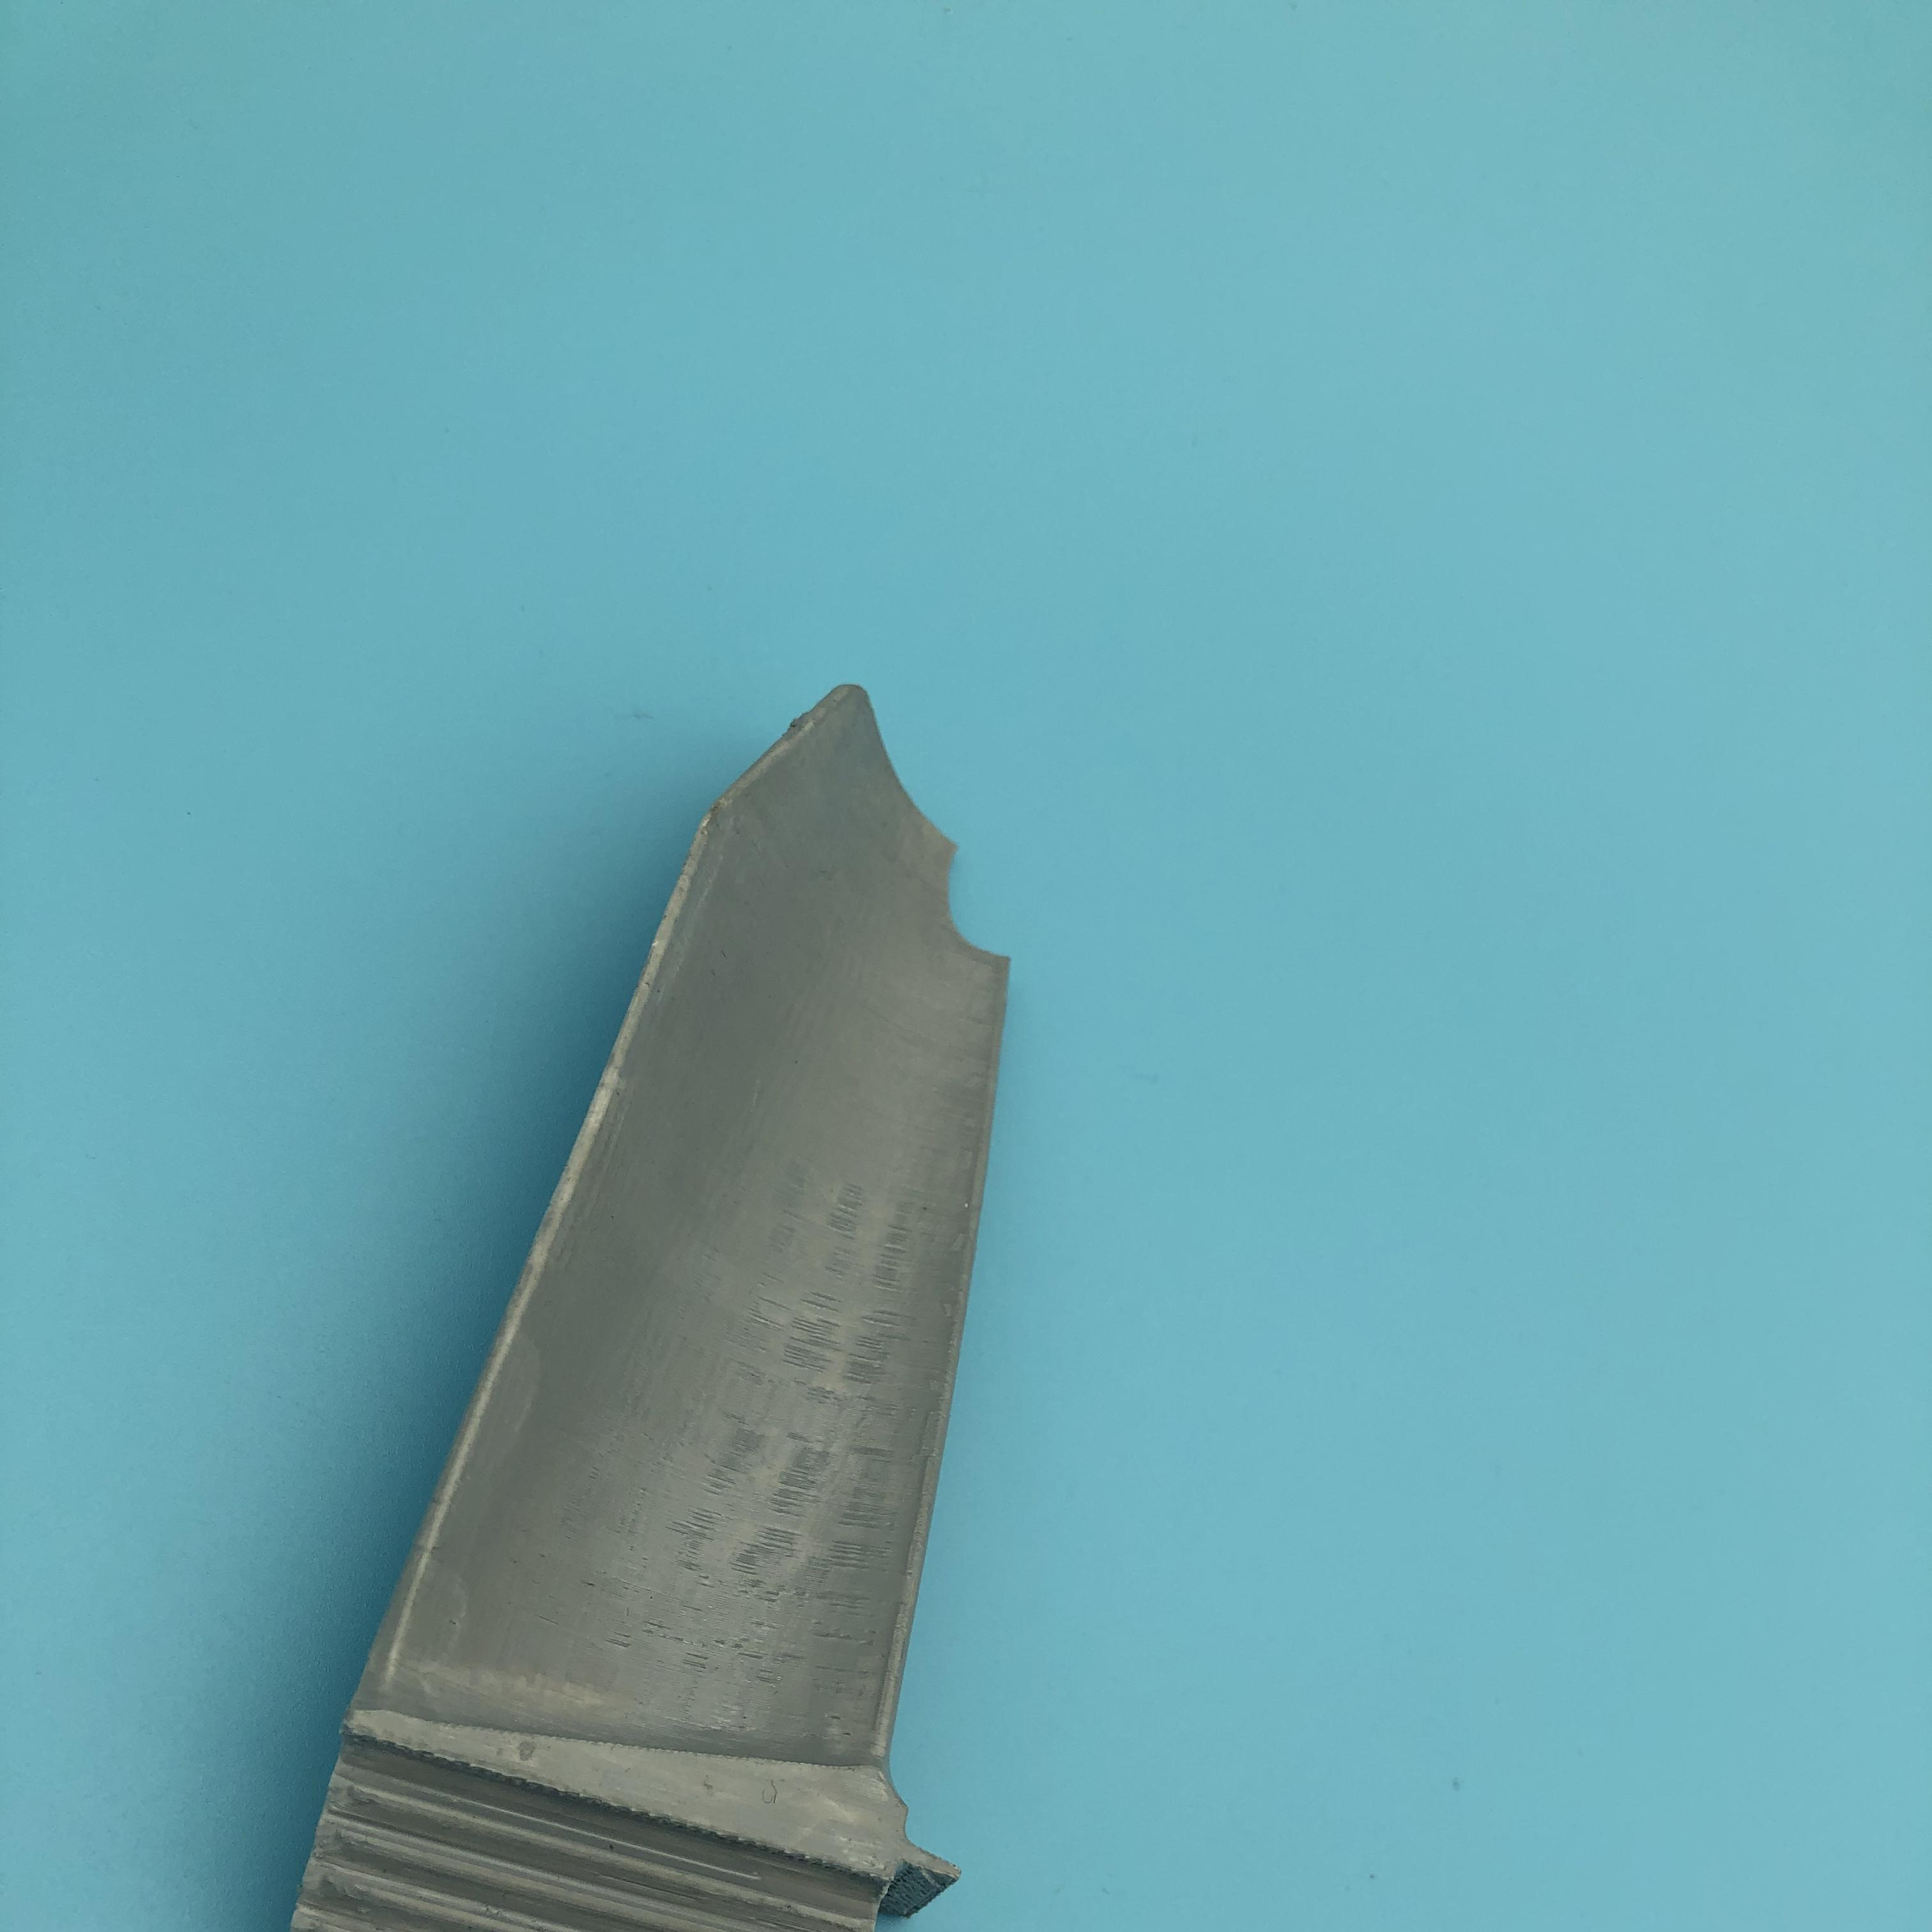fracture: (858, 711, 1028, 959)
